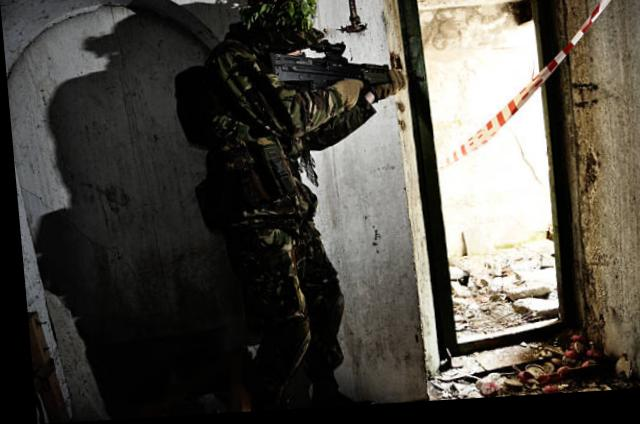other: (180, 0, 360, 400)
